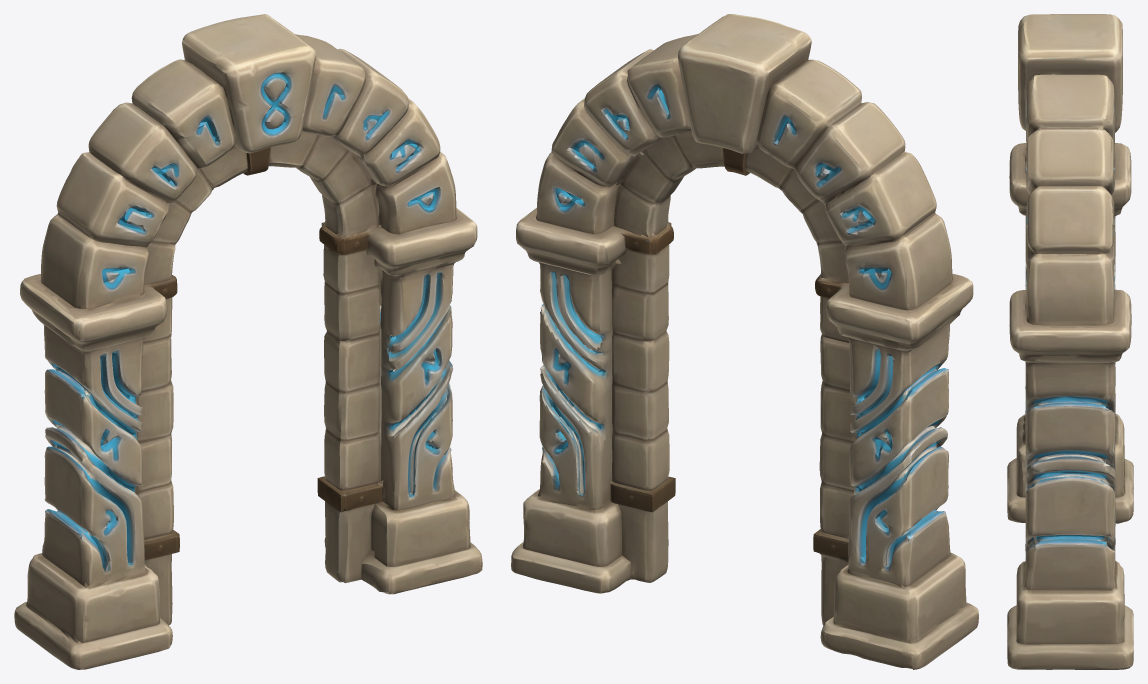
The model's file is hall_tether_gate.glb.
The picture shows the model from 3 angles, left to right: view 1: azimuth 30°, elevation 25°; view 2: azimuth 150°, elevation 25°; view 3: azimuth 270°, elevation 25°; orthographic projection. The views are drawn at different scales.
Parts seen in each view (by area): view 1: Mesh_0; view 2: Mesh_0; view 3: Mesh_0.
Boxes of the visible parts, x1=… form: Mesh_0: x1=14, y1=14, x2=482, y2=669; Mesh_0: x1=511, y1=14, x2=978, y2=669; Mesh_0: x1=1007, y1=14, x2=1133, y2=669.
Size of the model in its own units: 1.46 by 1.9 by 0.4007.
1 material, 1 textured.
